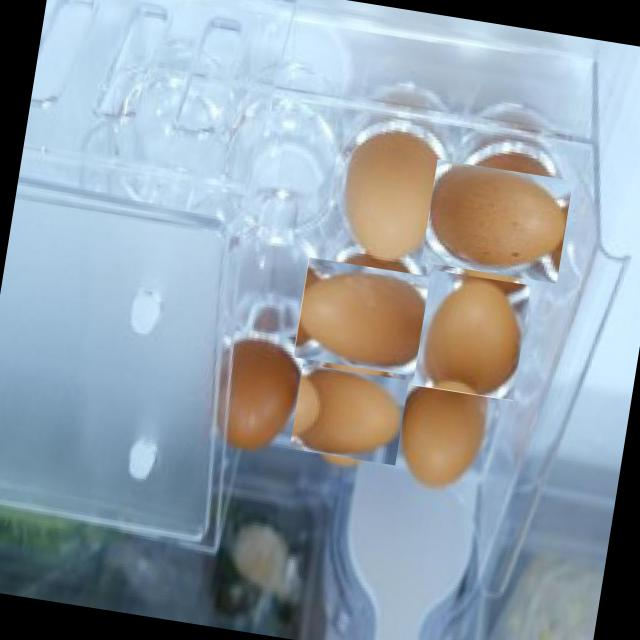eggs: (428, 152, 566, 290), (333, 122, 456, 268), (299, 252, 431, 384), (412, 269, 532, 402), (390, 369, 494, 501), (294, 359, 404, 470), (212, 332, 308, 456)
